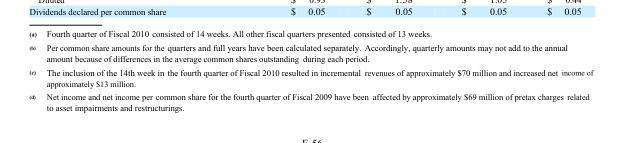table: (28, 28, 592, 111)
table column: (40, 28, 592, 111), (28, 28, 40, 111)
table row: (28, 64, 592, 89), (28, 40, 592, 64), (28, 89, 592, 111), (28, 28, 592, 40)
